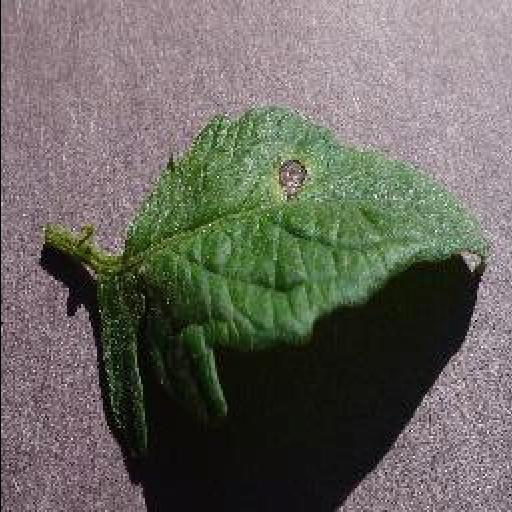disease_tomato: (102, 107, 494, 436)
